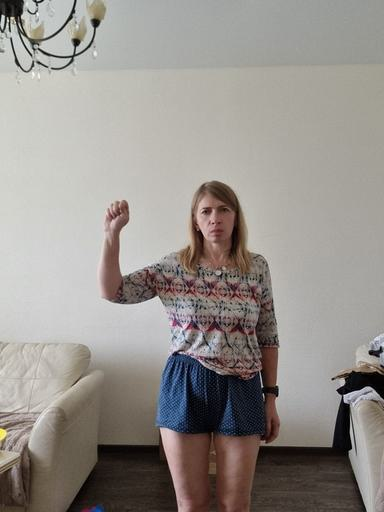fist: (103, 198, 130, 232)
